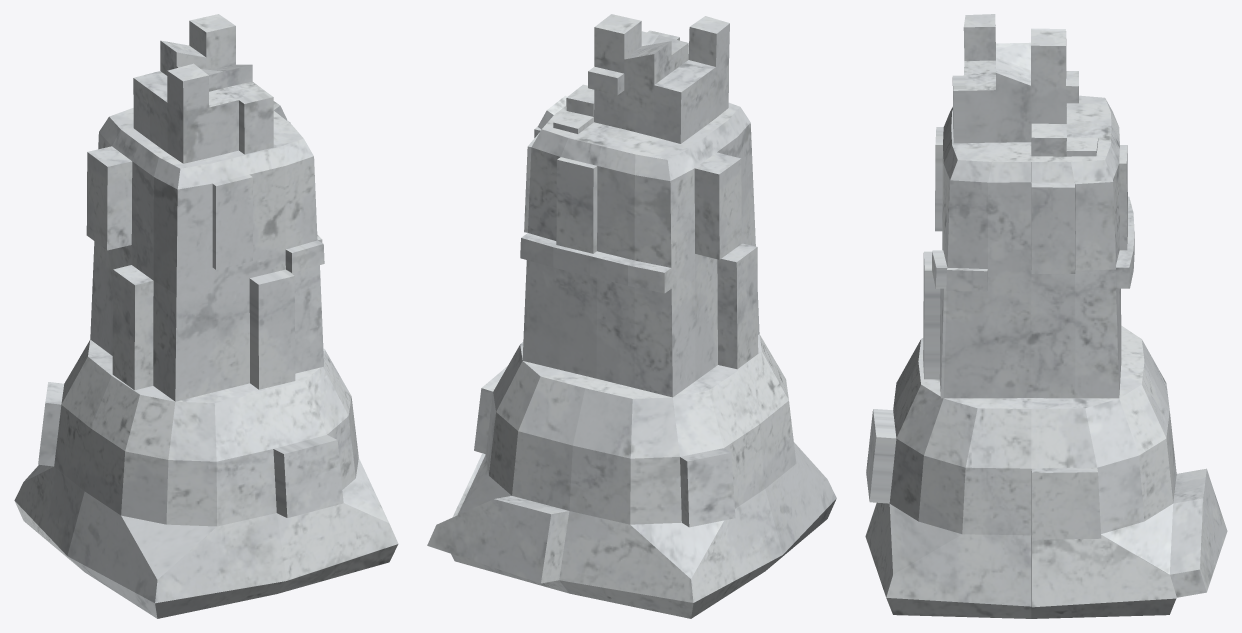
Rendered from Marble Pillar.glb.
3 views of the same model, side by side, from view 1: azimuth 30°, elevation 25°; view 2: azimuth 150°, elevation 25°; view 3: azimuth 270°, elevation 25° (orthographic). The views are drawn at different scales.
Parts seen in each view (by area): view 1: Cube; view 2: Cube; view 3: Cube.
Part boxes in pixels (x1,y1,x2,y2): Cube: (14, 14, 398, 618); Cube: (427, 14, 836, 618); Cube: (865, 14, 1227, 618).
Bounding box in the file's own units: 2.02 × 3.52 × 2.18.
1 material, 1 textured.
